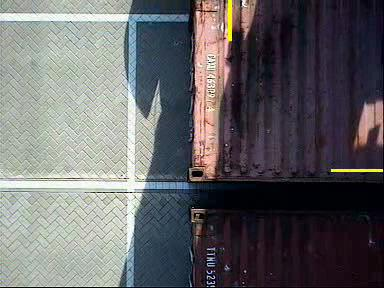groundmarker_2: (146, 129, 197, 164), (147, 8, 197, 43)
